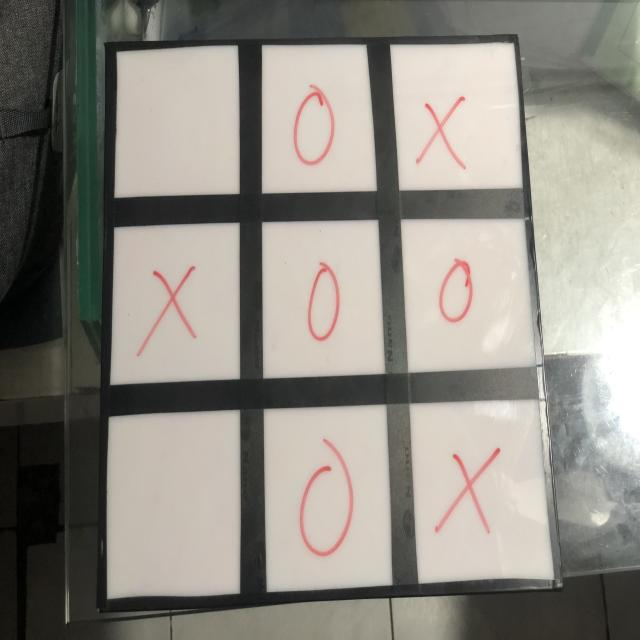null: (103, 407, 243, 603), (112, 43, 241, 199)
o: (296, 459, 357, 565), (301, 259, 346, 345), (290, 87, 337, 169), (435, 251, 480, 333)
table: (76, 27, 560, 606)
x: (434, 447, 507, 533), (140, 262, 204, 348), (416, 89, 471, 170)
